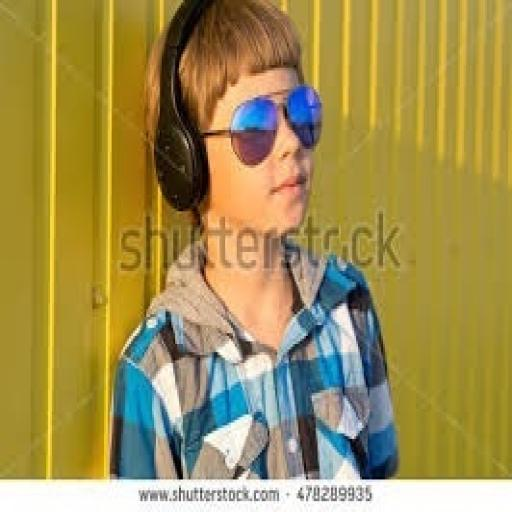listening_to_music: (105, 0, 400, 479)
